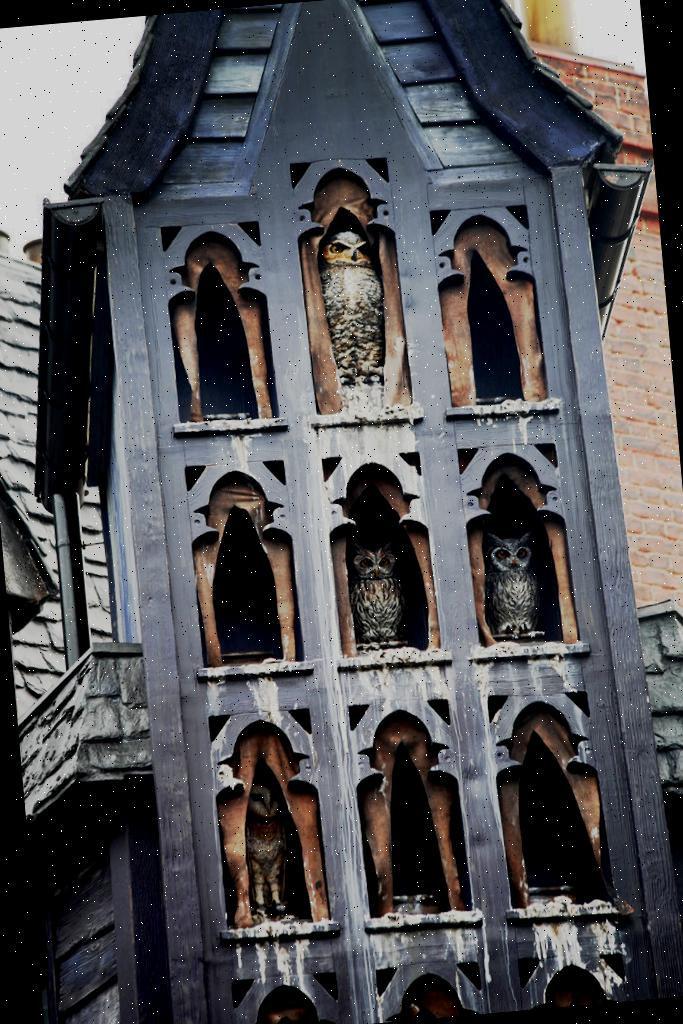Owl: (315, 228, 394, 414), (235, 778, 301, 931), (347, 536, 417, 653), (482, 530, 541, 646)
